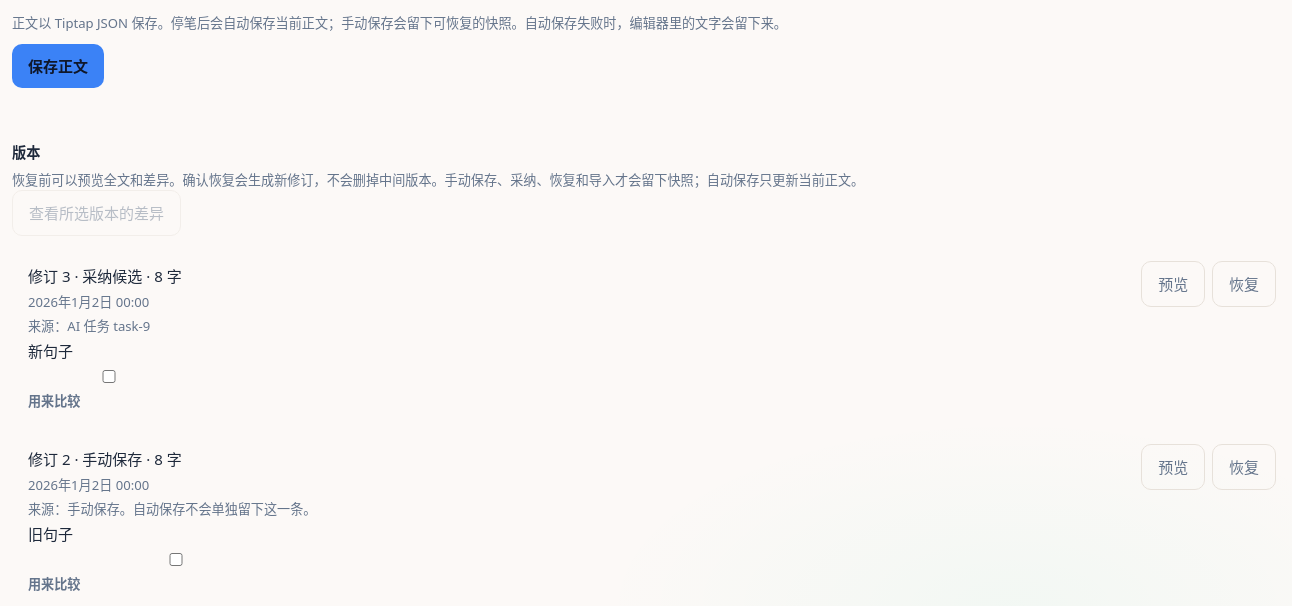
it: ChapterEditor › previews a version diff before restore
(page scrolled)
Check: the text "来源：AI 任务 task-9" is shown, box [28,317,150,335]
Click the button named "预览修订 2".
click(1173, 467)  # box [1141,444,1205,490]
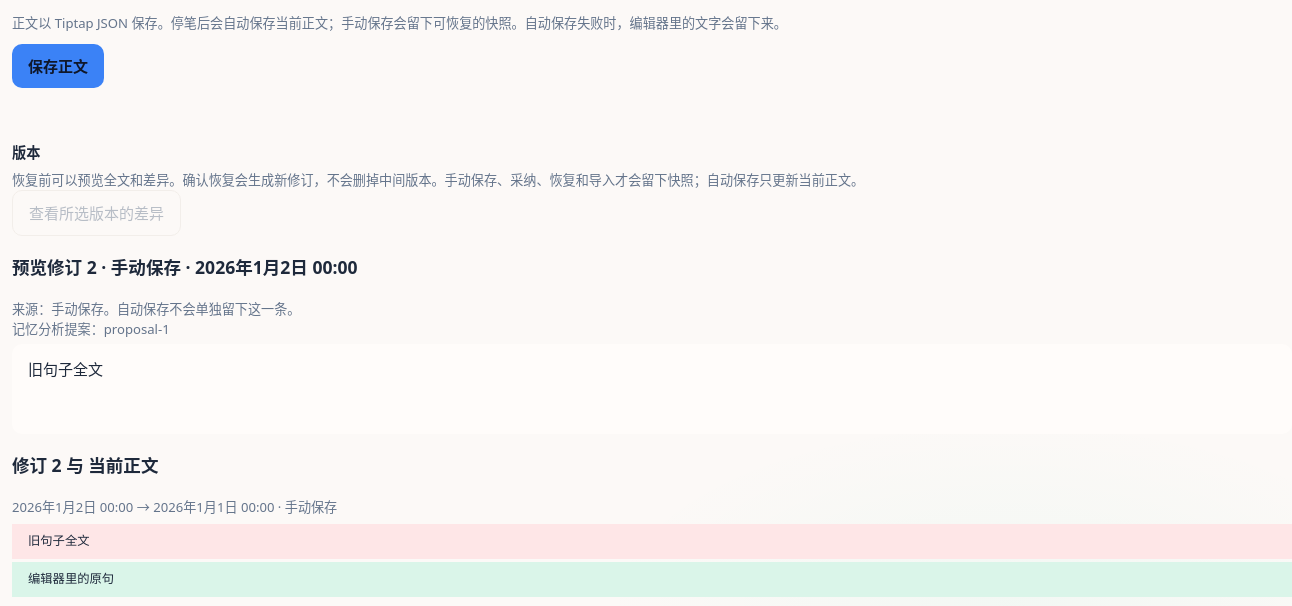
Check: the text "旧句子全文" below "记忆分析提案：" is shown, box [28,360,103,380]
Check: the text "记忆分析提案：proposal-1" is shown, box [12,320,170,338]
Check: the text "编辑器里的原句" is shown, box [12,562,1291,597]
